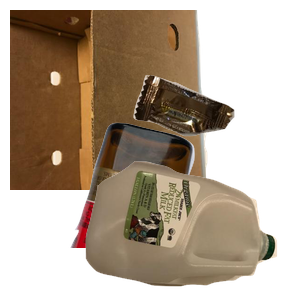cardboard: (10, 10, 211, 190)
glass: (68, 120, 255, 300)
plastic: (83, 159, 300, 300)
trash: (131, 73, 300, 202)
